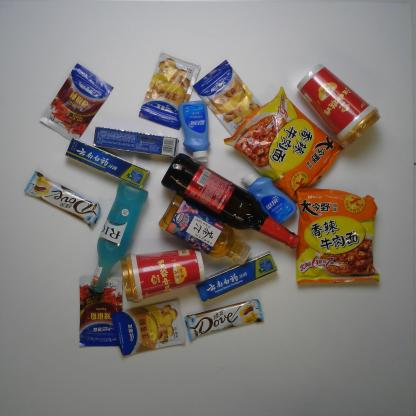Alcohol: (160, 152, 300, 249), (89, 180, 149, 297)
Chocolate: (23, 170, 102, 228), (183, 298, 265, 342)
Drink: (158, 195, 253, 266)
Instant Drink: (296, 62, 382, 149), (120, 248, 206, 304)
Instant Noodles: (223, 85, 347, 206), (293, 186, 383, 286)
Personal Hygiene: (194, 250, 280, 303), (65, 137, 151, 189), (239, 172, 298, 225), (92, 126, 179, 158), (177, 98, 212, 162)
Seasoner: (39, 63, 114, 142), (192, 58, 264, 137), (138, 51, 202, 132), (111, 300, 186, 357), (78, 275, 124, 348)
